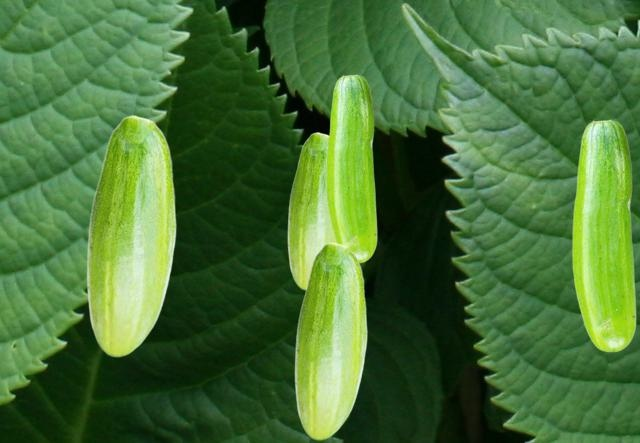cucumber: (86, 115, 175, 356), (572, 119, 635, 351), (294, 242, 366, 439), (326, 74, 376, 262), (287, 132, 334, 289)
